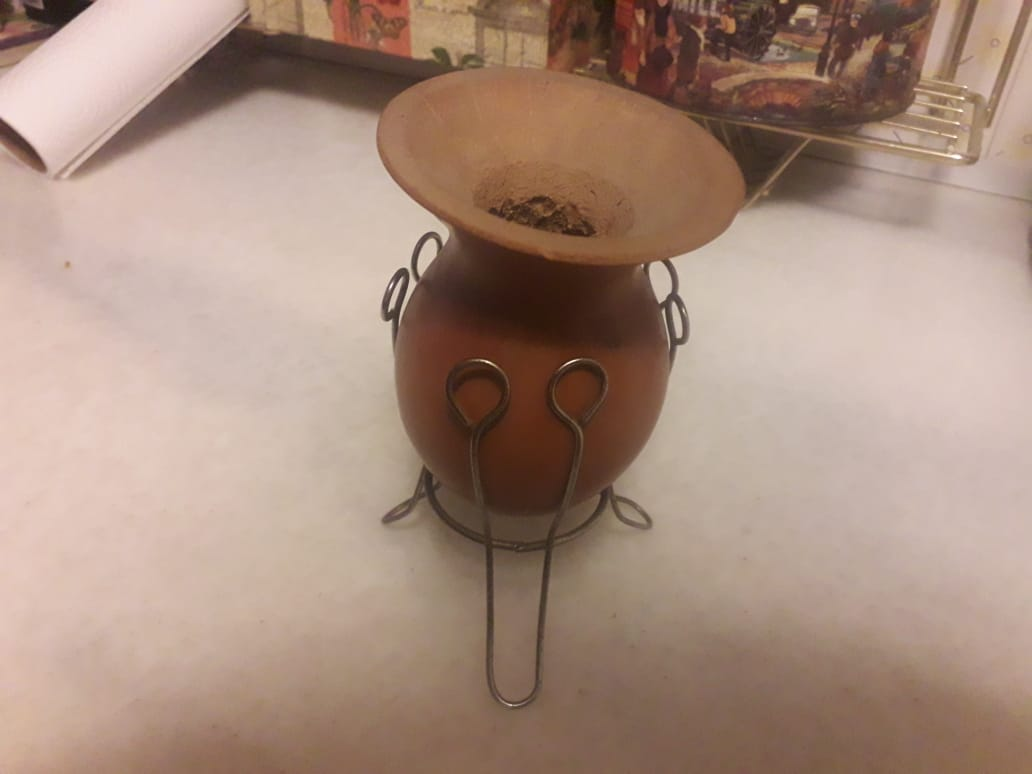calabaza: (367, 61, 750, 708)
mate: (369, 63, 752, 710)
